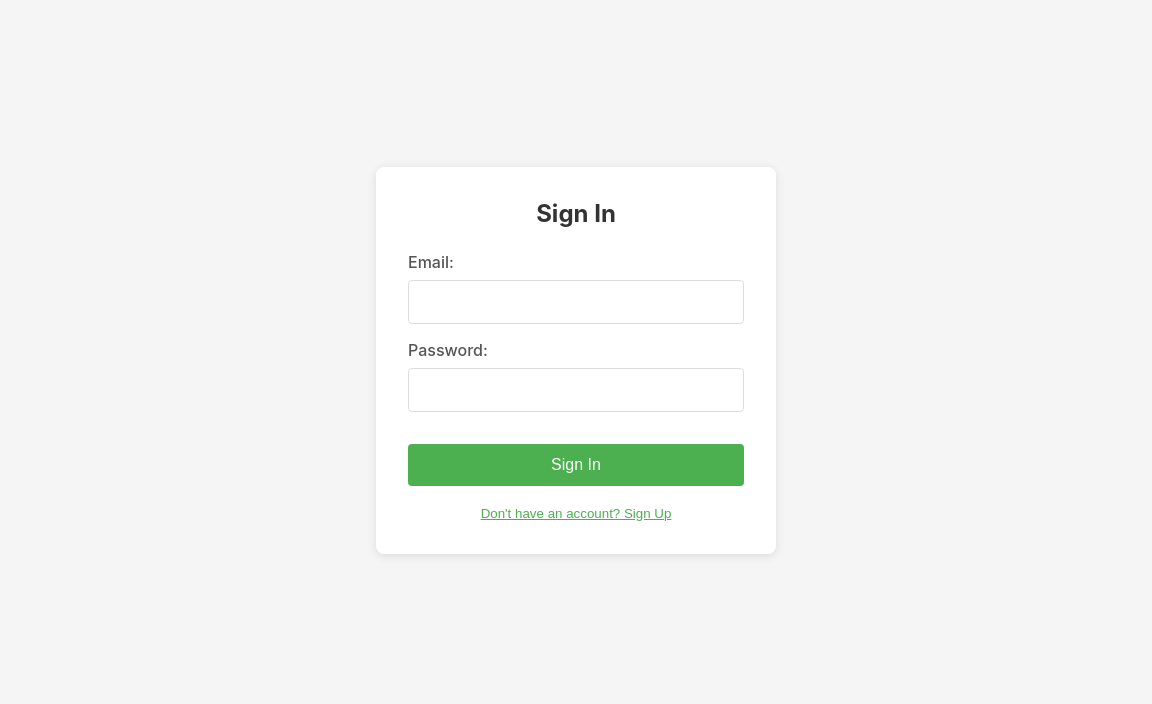
it: Another user's post › does not show the edit button on the post detail
Type "test@example.com" into the field with id "email" at coordinates (576, 302), box [408, 280, 744, 324]
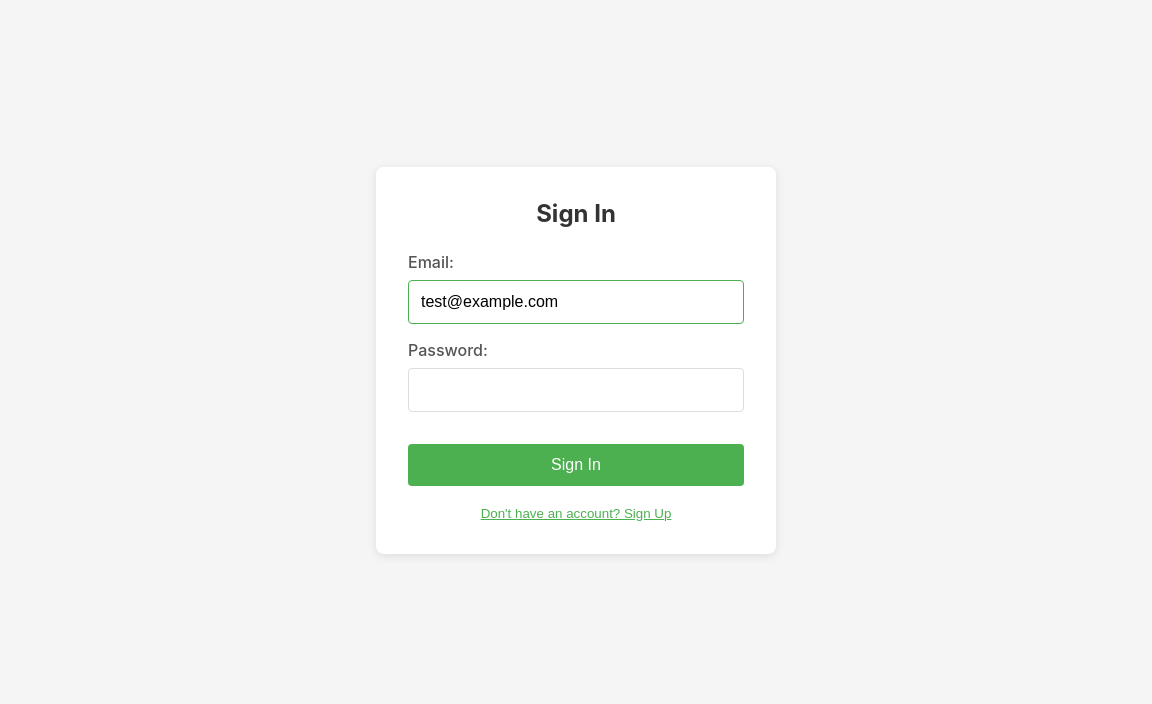
Type "password123" into the password field labelled "Password:" at coordinates (576, 390), box [408, 368, 744, 412]
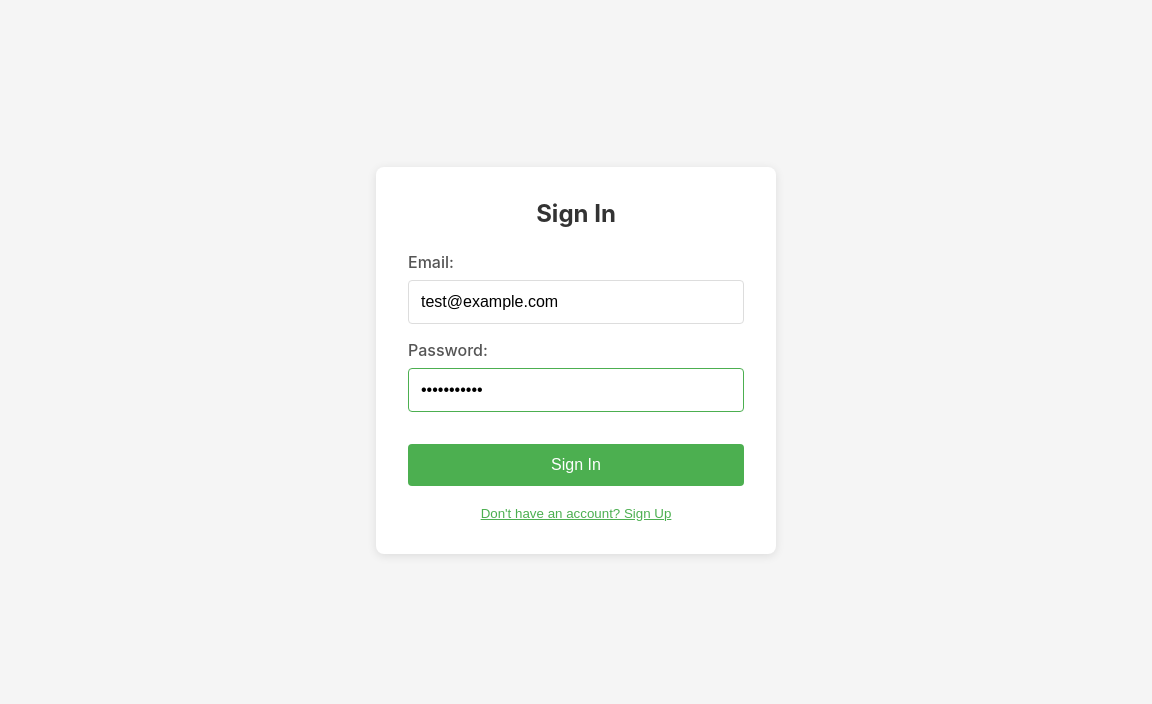
Click the submit button at coordinates (576, 465), box [408, 444, 744, 486]
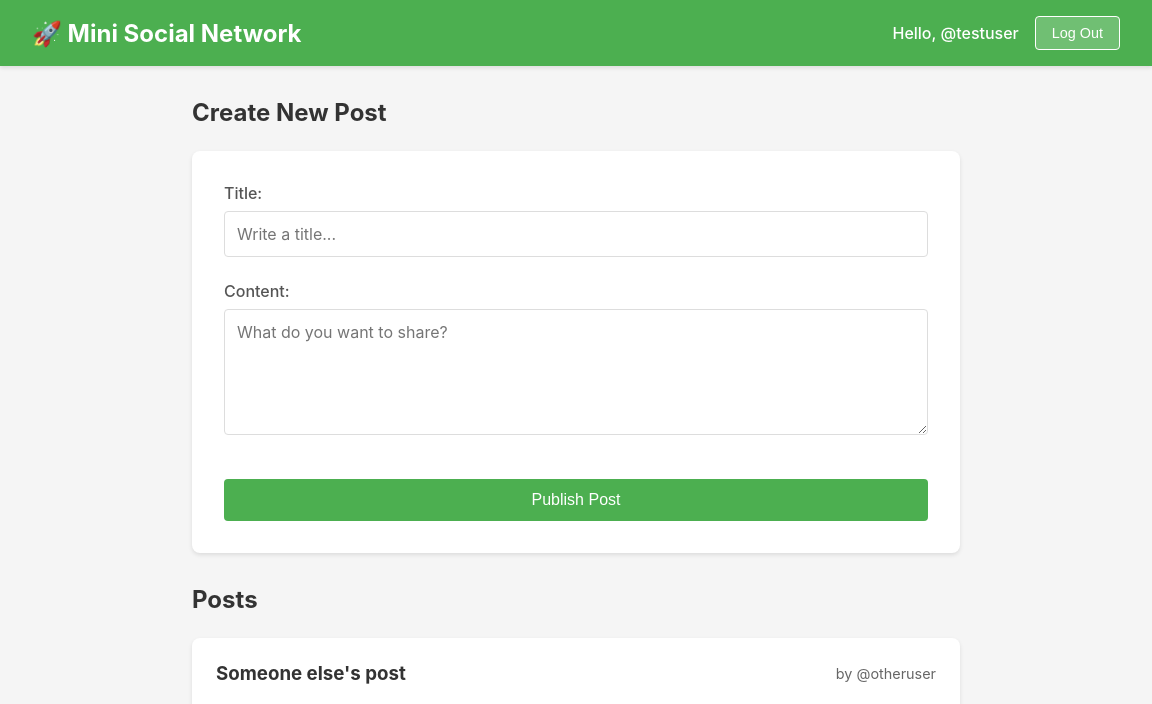
Click the heading "Someone else's post" at coordinates (311, 674), box [216, 662, 406, 685]
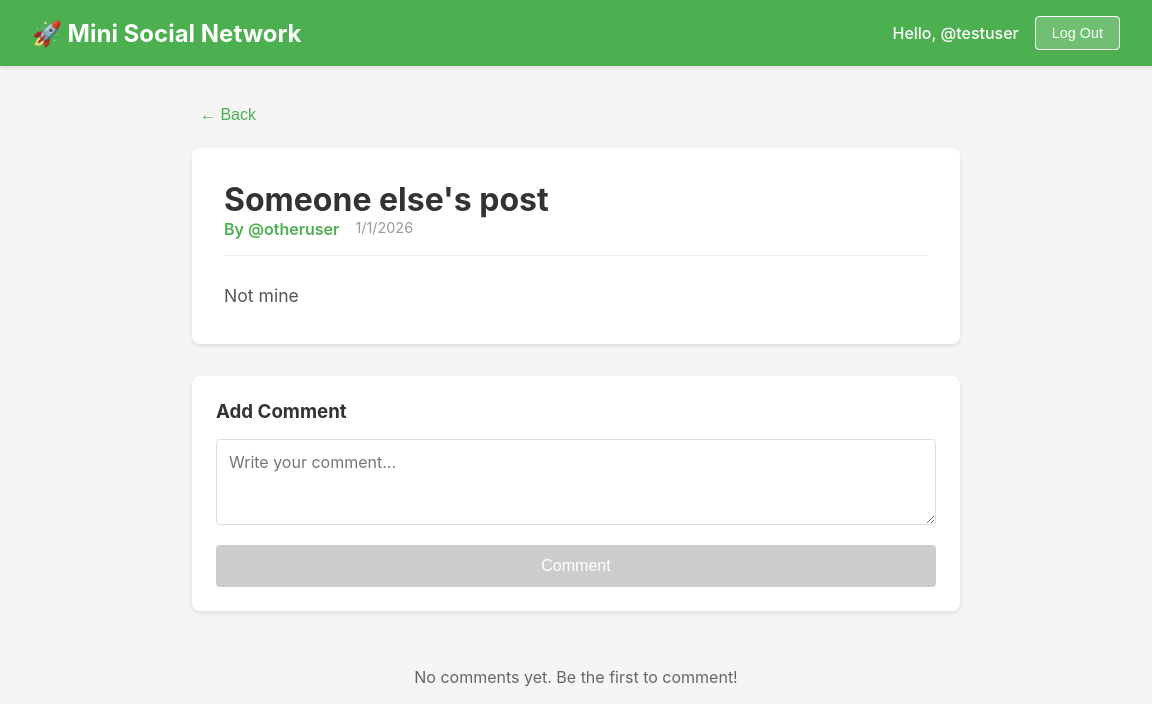
Expected: the button "← Back" is shown, [192, 98, 264, 132]
